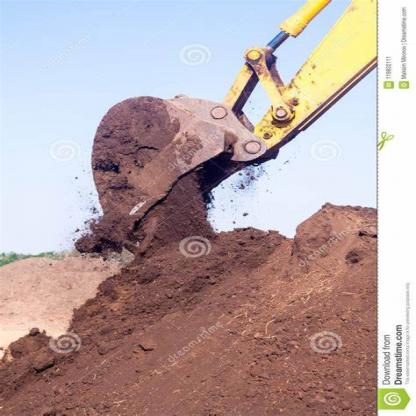dump_truck: (75, 3, 390, 245)
